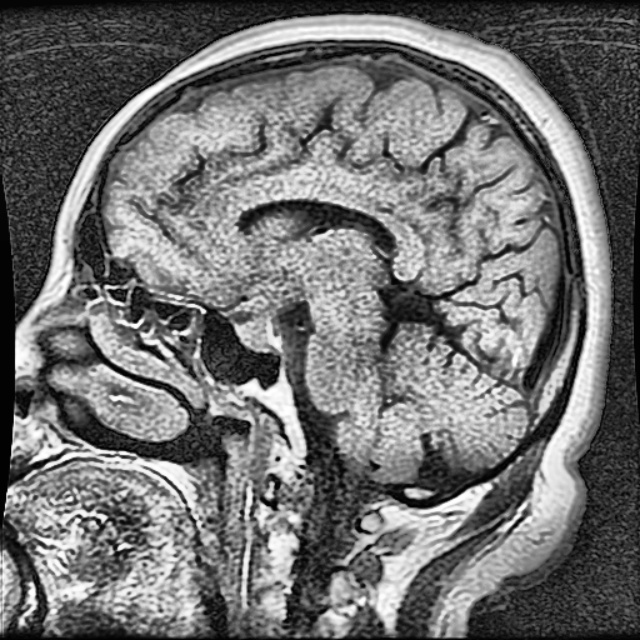Pituitary: (235, 310, 277, 349)
